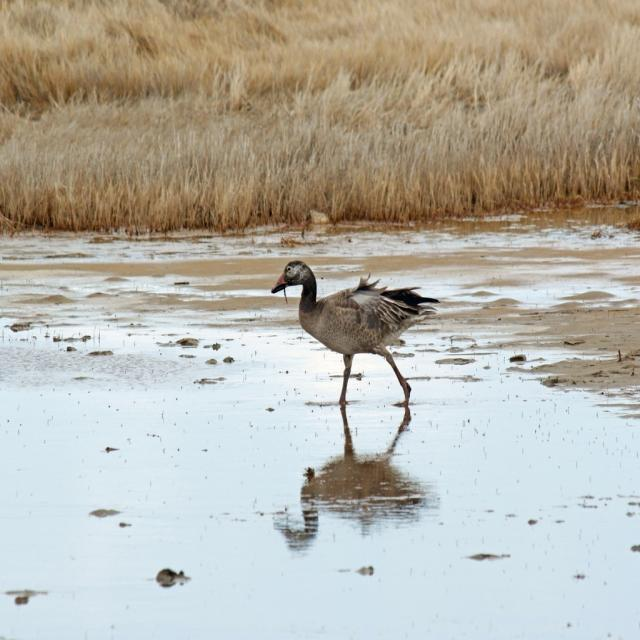bird: (270, 262, 443, 408)
